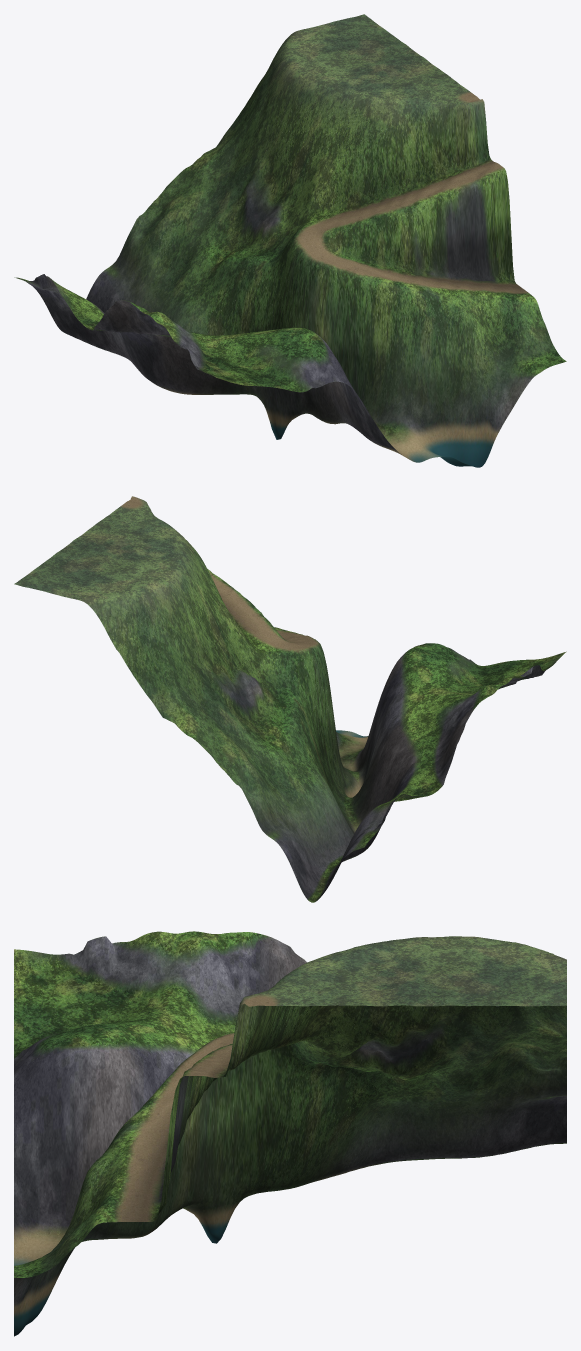
The picture shows the model from 3 angles, top to bottom: view 1: azimuth 30°, elevation 25°; view 2: azimuth 150°, elevation 25°; view 3: azimuth 270°, elevation 25°; orthographic projection. The views are drawn at different scales.
Visible parts, largest first — view 1: t064_128; view 2: t064_128; view 3: t064_128.
Boxes of the visible parts, bbox=[...] form: t064_128: bbox=[14, 14, 566, 467]; t064_128: bbox=[14, 496, 566, 902]; t064_128: bbox=[14, 931, 566, 1336].
Bounding box in the file's own units: 64 × 49.84 × 64.
1 material, 1 textured.
